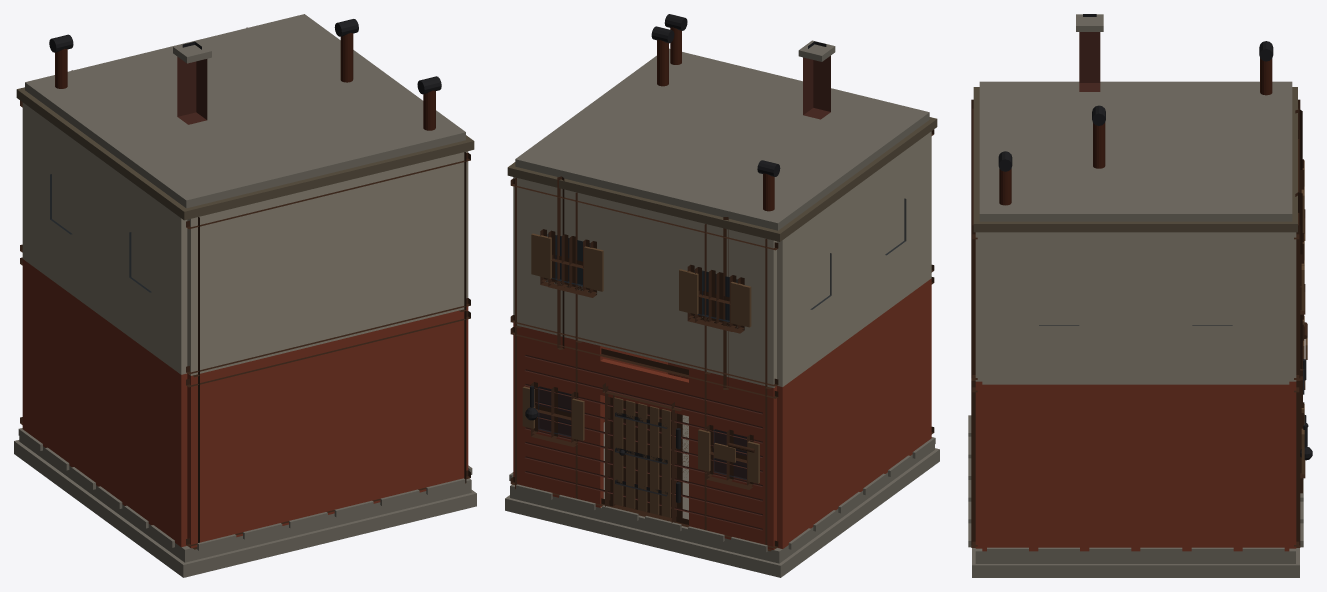
File: GalakasMidCity_ServiceFlatRoof_W04D04_F01_R02U02L02_A01.obj
The picture shows the model from 3 angles, left to right: view 1: azimuth 30°, elevation 25°; view 2: azimuth 150°, elevation 25°; view 3: azimuth 270°, elevation 25°; orthographic projection. The views are drawn at different scales.
Parts seen in each view (by area): view 1: GalakasMidCity_ServiceFlatRoof_W04D04_F01_R02U02L02_A01_flat_roo, GalakasMidCity_ServiceFlatRoof_W04D04_F01_R02U02L02_A01_lower_ba, GalakasMidCity_ServiceFlatRoof_W04D04_F01_R02U02L02_A01_upper1_b, GalakasMidCity_ServiceFlatRoof_W04D04_F01_R02U02L02_A01_lower_le, GalakasMidCity_ServiceFlatRoof_W04D04_F01_R02U02L02_A01_upper1_l, stone_plinth_base, stone_plinth_raised, GalakasMidCity_ServiceFlatRoof_W04D04_F01_R02U02L02_A01_chimney_; view 2: GalakasMidCity_ServiceFlatRoof_W04D04_F01_R02U02L02_A01_flat_roo, GalakasMidCity_ServiceFlatRoof_W04D04_F01_R02U02L02_A01_upper1_f, GalakasMidCity_ServiceFlatRoof_W04D04_F01_R02U02L02_A01_lower_fr, GalakasMidCity_ServiceFlatRoof_W04D04_F01_R02U02L02_A01_lower_le, GalakasMidCity_ServiceFlatRoof_W04D04_F01_R02U02L02_A01_upper1_l, GalakasMidCity_ServiceFlatRoof_W04D04_F01_R02U02L02_A01_lower_ma, stone_plinth_base, stone_plinth_raised, GalakasMidCity_ServiceFlatRoof_W04D04_F01_R02U02L02_A01_upper1_u, GalakasMidCity_ServiceFlatRoof_W04D04_F01_R02U02L02_A01_brick_fr, GalakasMidCity_ServiceFlatRoof_W04D04_F01_R02U02L02_A01_chimney_, GalakasMidCity_ServiceFlatRoof_W04D04_F01_R02U02L02_A01_diag_bra (+1 smaller); view 3: GalakasMidCity_ServiceFlatRoof_W04D04_F01_R02U02L02_A01_lower_ri, GalakasMidCity_ServiceFlatRoof_W04D04_F01_R02U02L02_A01_flat_roo, GalakasMidCity_ServiceFlatRoof_W04D04_F01_R02U02L02_A01_upper1_r, stone_plinth_base, stone_plinth_raised, GalakasMidCity_ServiceFlatRoof_W04D04_F01_R02U02L02_A01_chimney_, GalakasMidCity_ServiceFlatRoof_W04D04_F01_R02U02L02_A01_lower_fr, GalakasMidCity_ServiceFlatRoof_W04D04_F01_R02U02L02_A01_upper1_f, GalakasMidCity_ServiceFlatRoof_W04D04_F01_R02U02L02_A01_upper1_b, GalakasMidCity_ServiceFlatRoof_W04D04_F01_R02U02L02_A01_lower_ba, GalakasMidCity_ServiceFlatRoof_W04D04_F01_R02U02L02_A01_diag_bra, GalakasMidCity_ServiceFlatRoof_W04D04_F01_R02U02L02_A01_upper1_u.
Boxes of the visible parts, x1,y1,x2,y2 form: GalakasMidCity_ServiceFlatRoof_W04D04_F01_R02U02L02_A01_flat_roo: [16, 14, 474, 220]; GalakasMidCity_ServiceFlatRoof_W04D04_F01_R02U02L02_A01_lower_ba: [186, 310, 470, 549]; GalakasMidCity_ServiceFlatRoof_W04D04_F01_R02U02L02_A01_upper1_b: [186, 152, 470, 377]; GalakasMidCity_ServiceFlatRoof_W04D04_F01_R02U02L02_A01_lower_le: [22, 259, 187, 547]; GalakasMidCity_ServiceFlatRoof_W04D04_F01_R02U02L02_A01_upper1_l: [22, 102, 187, 374]; stone_plinth_base: [14, 440, 476, 577]; stone_plinth_raised: [19, 428, 471, 562]; GalakasMidCity_ServiceFlatRoof_W04D04_F01_R02U02L02_A01_chimney_: [173, 19, 358, 124]; GalakasMidCity_ServiceFlatRoof_W04D04_F01_R02U02L02_A01_flat_roo: [507, 14, 937, 241]; GalakasMidCity_ServiceFlatRoof_W04D04_F01_R02U02L02_A01_upper1_f: [510, 177, 778, 389]; GalakasMidCity_ServiceFlatRoof_W04D04_F01_R02U02L02_A01_lower_fr: [510, 327, 778, 551]; GalakasMidCity_ServiceFlatRoof_W04D04_F01_R02U02L02_A01_lower_le: [777, 278, 931, 548]; GalakasMidCity_ServiceFlatRoof_W04D04_F01_R02U02L02_A01_upper1_l: [777, 131, 931, 386]; GalakasMidCity_ServiceFlatRoof_W04D04_F01_R02U02L02_A01_lower_ma: [602, 383, 682, 522]; stone_plinth_base: [505, 448, 939, 577]; stone_plinth_raised: [510, 415, 934, 563]; GalakasMidCity_ServiceFlatRoof_W04D04_F01_R02U02L02_A01_upper1_u: [531, 229, 751, 333]; GalakasMidCity_ServiceFlatRoof_W04D04_F01_R02U02L02_A01_brick_fr: [524, 355, 762, 530]; GalakasMidCity_ServiceFlatRoof_W04D04_F01_R02U02L02_A01_chimney_: [651, 26, 835, 119]; GalakasMidCity_ServiceFlatRoof_W04D04_F01_R02U02L02_A01_diag_bra: [557, 176, 728, 389]; GalakasMidCity_ServiceFlatRoof_W04D04_F01_R02U02L02_A01_lower_ri: [982, 384, 1289, 551]; GalakasMidCity_ServiceFlatRoof_W04D04_F01_R02U02L02_A01_flat_roo: [973, 41, 1297, 232]; GalakasMidCity_ServiceFlatRoof_W04D04_F01_R02U02L02_A01_upper1_r: [982, 232, 1289, 384]; stone_plinth_base: [972, 548, 1299, 577]; stone_plinth_raised: [975, 548, 1295, 563]; GalakasMidCity_ServiceFlatRoof_W04D04_F01_R02U02L02_A01_chimney_: [1076, 14, 1105, 168]; GalakasMidCity_ServiceFlatRoof_W04D04_F01_R02U02L02_A01_lower_fr: [1289, 314, 1305, 548]; GalakasMidCity_ServiceFlatRoof_W04D04_F01_R02U02L02_A01_upper1_f: [1289, 99, 1305, 381]; GalakasMidCity_ServiceFlatRoof_W04D04_F01_R02U02L02_A01_upper1_b: [971, 99, 982, 381]; GalakasMidCity_ServiceFlatRoof_W04D04_F01_R02U02L02_A01_lower_ba: [971, 381, 982, 548]; GalakasMidCity_ServiceFlatRoof_W04D04_F01_R02U02L02_A01_diag_bra: [1295, 109, 1302, 370]; GalakasMidCity_ServiceFlatRoof_W04D04_F01_R02U02L02_A01_upper1_u: [1299, 159, 1305, 314].
Size of the model in its own units: 8.74 by 13.1 by 8.98.
